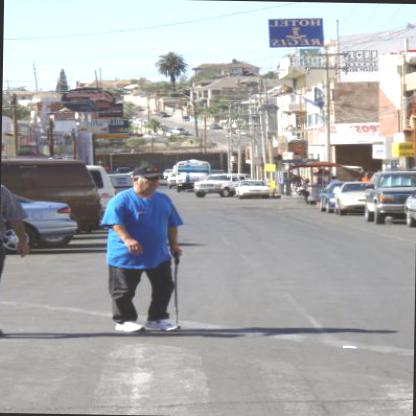car: (0, 154, 106, 232), (0, 196, 77, 248), (358, 166, 416, 228), (191, 171, 247, 200), (84, 166, 112, 214), (332, 179, 369, 213), (316, 179, 346, 210), (399, 179, 415, 228), (232, 178, 271, 197)
